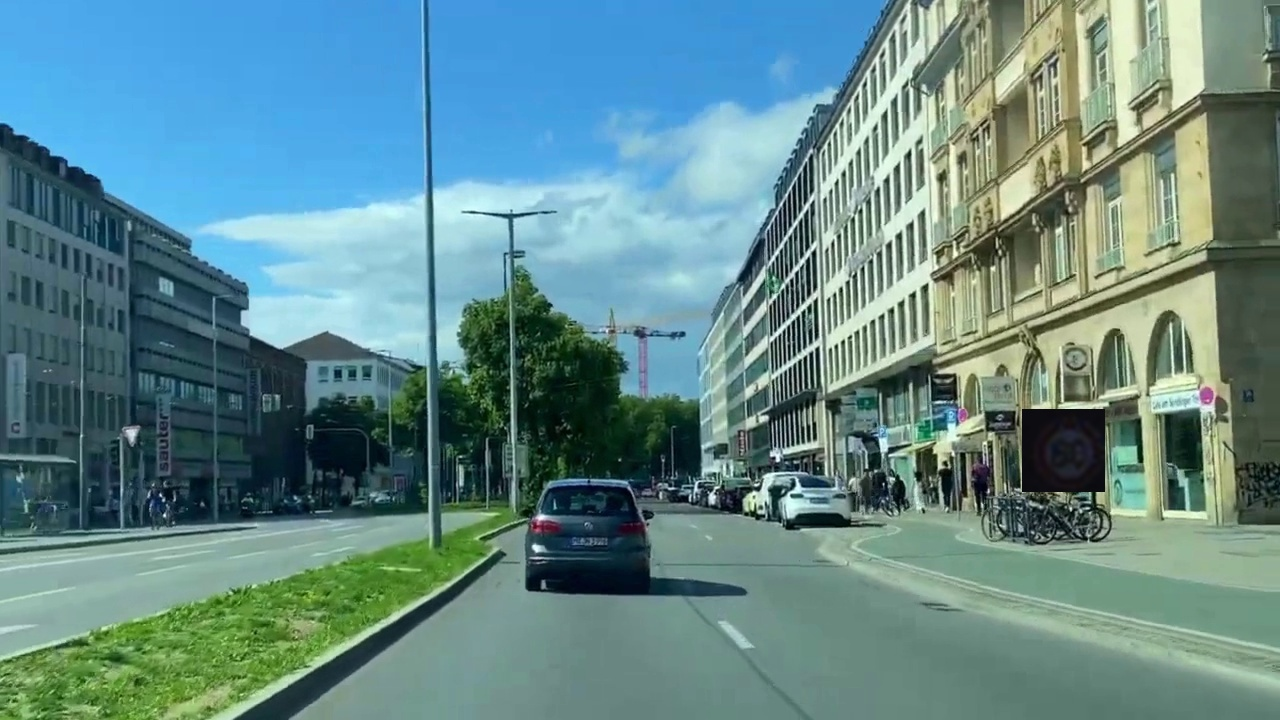Speed 80: (1022, 409, 1105, 492)
